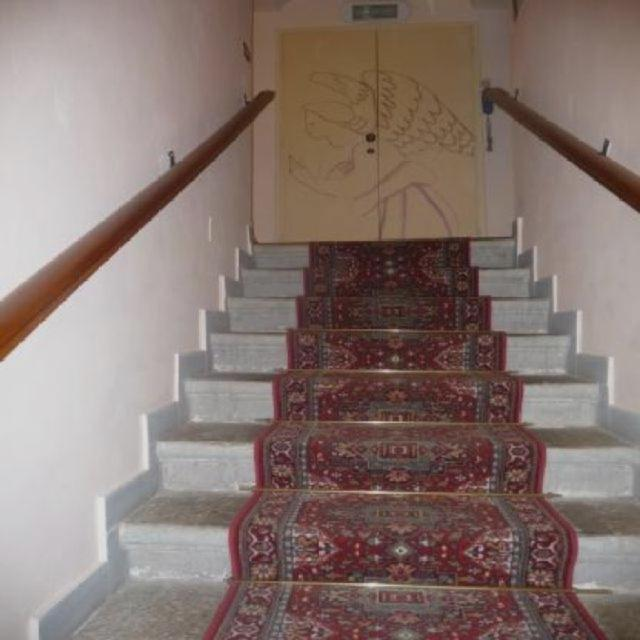stair: (62, 235, 640, 639)
